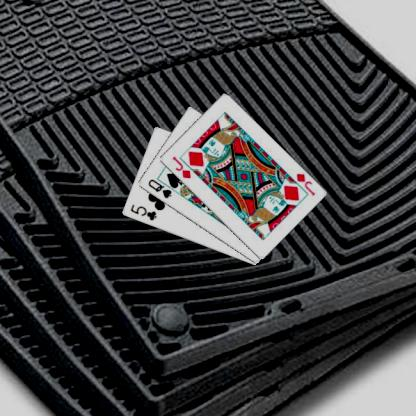5C: (128, 202, 158, 222)
JD: (293, 170, 316, 197), (169, 154, 192, 180)
QS: (145, 176, 173, 200)
